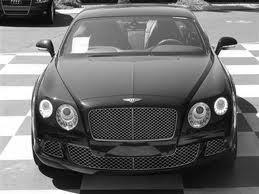car: (25, 4, 243, 187)
